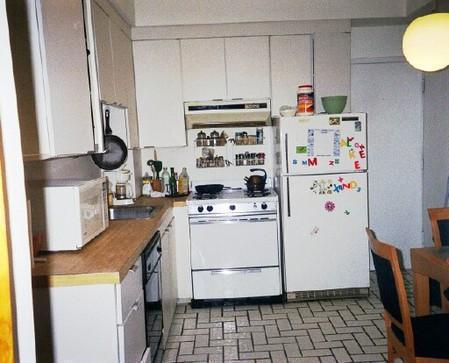Electrodomestico: (279, 117, 371, 298), (188, 199, 282, 301), (140, 233, 163, 353)
